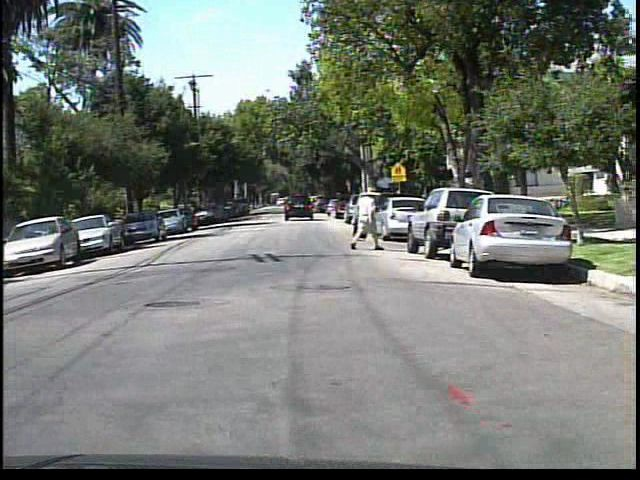person: (345, 184, 386, 253)
